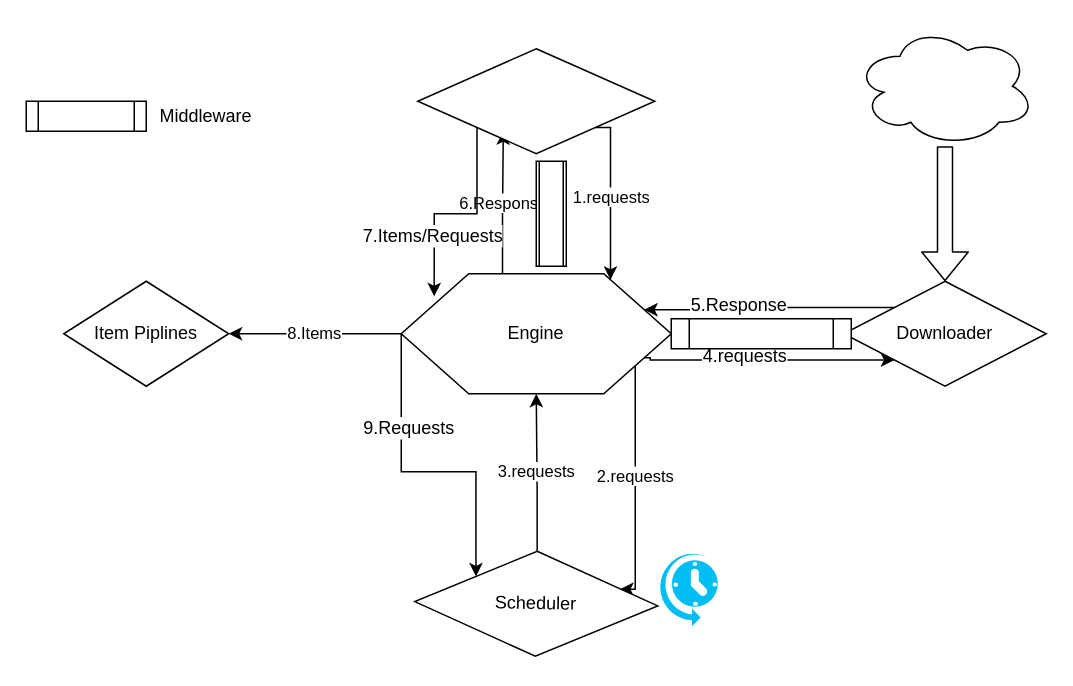
This 1073x686 diagram has some shape labels left out. The centre of each missing label's shape, as x and y in pixels:
INTERNET: point 944,85
Spider: point 535,100
